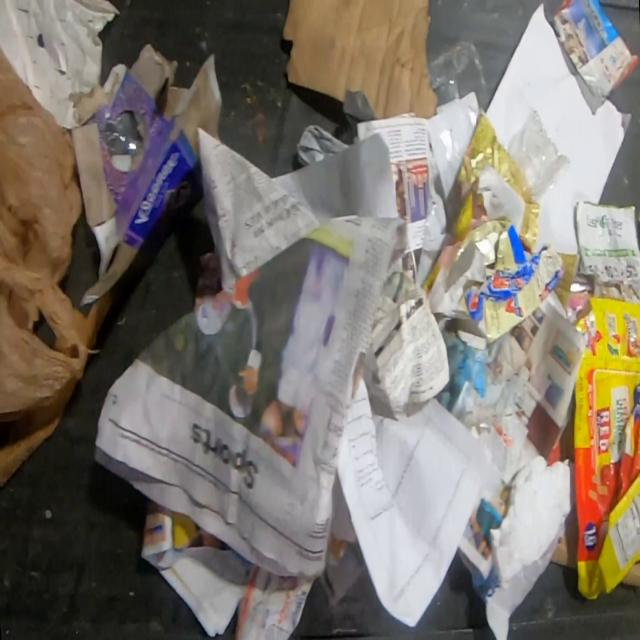cardboard: (67, 44, 224, 307), (563, 291, 640, 599), (280, 0, 438, 119), (450, 218, 564, 342), (551, 509, 577, 568), (555, 253, 580, 308)
rigid_plastic: (428, 40, 489, 196)
soft_plastic: (0, 46, 88, 423), (506, 110, 572, 201)
